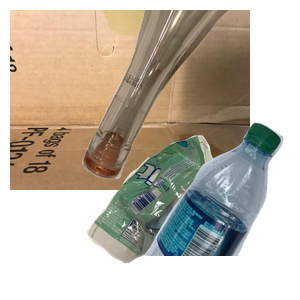cardboard: (10, 10, 250, 190)
glass: (80, 10, 300, 182)
plastic: (142, 120, 300, 300)
trash: (84, 133, 292, 300)
